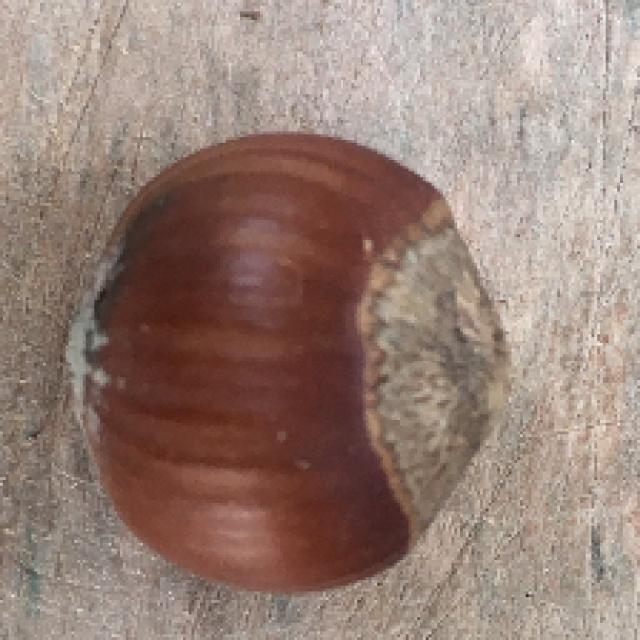DamagedHazelnut: (64, 131, 520, 588)
